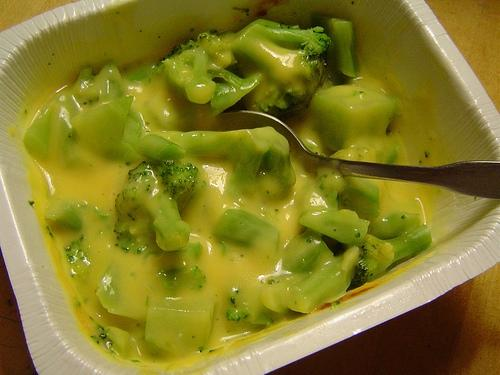broccoli: (225, 19, 332, 122), (153, 126, 297, 200), (114, 157, 206, 255), (161, 31, 260, 116), (308, 83, 400, 164), (346, 224, 432, 292), (285, 245, 359, 314), (69, 96, 134, 156), (144, 300, 214, 354), (212, 210, 280, 262), (122, 112, 186, 162), (96, 262, 142, 320), (317, 16, 360, 77), (300, 210, 370, 246), (23, 102, 59, 161), (224, 287, 276, 327), (44, 199, 88, 241), (366, 212, 421, 240), (64, 234, 89, 262)
